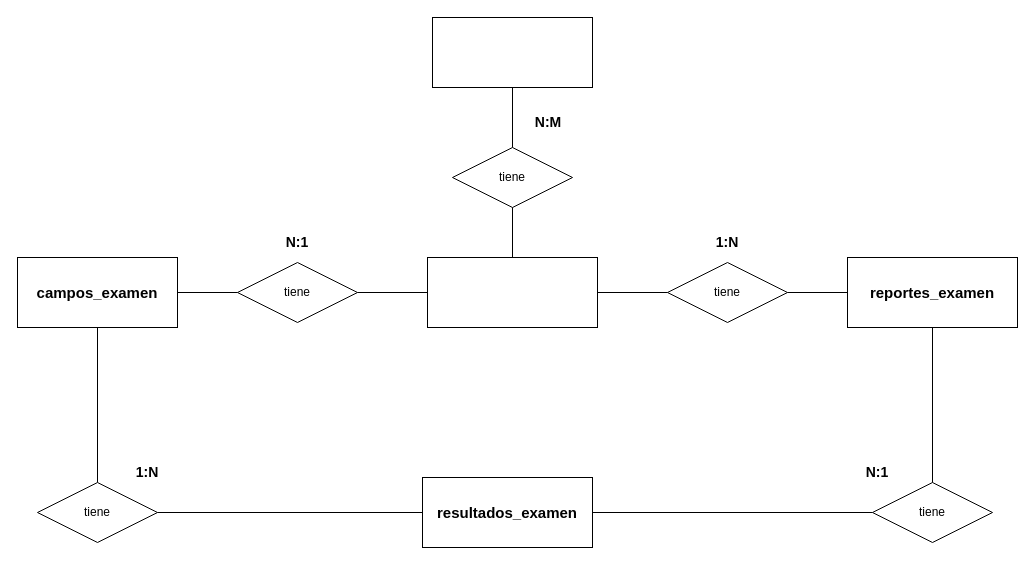
The diagram is 1035 pixels wide and 565 high, and some of its shapes have lost their labels. Each missing label, with the centre of its shape:
compuestos _examen: the point at 512,52
tipos_examen: the point at 512,292
